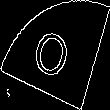O_S: (32, 23, 78, 87)
